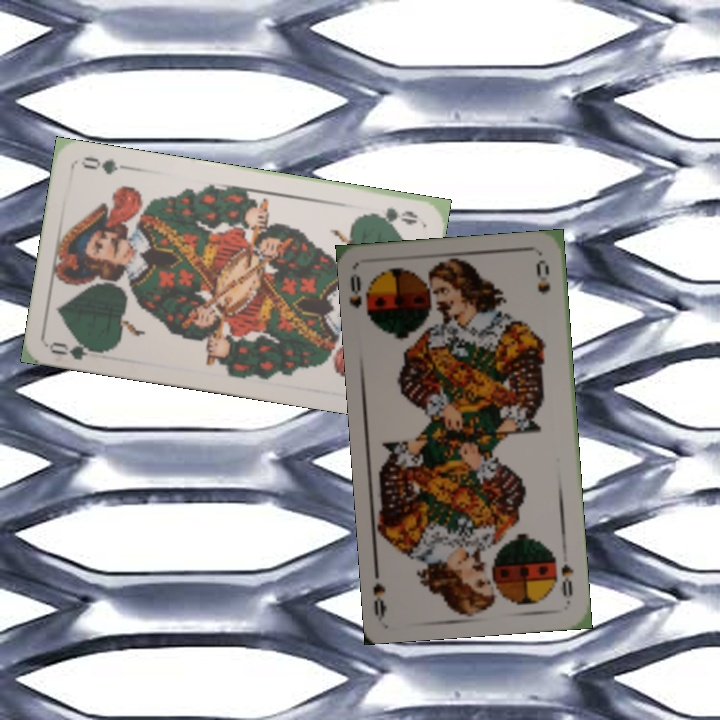GO: (47, 334, 107, 363), (362, 204, 420, 228)
SO: (346, 269, 375, 324), (557, 559, 577, 599)
